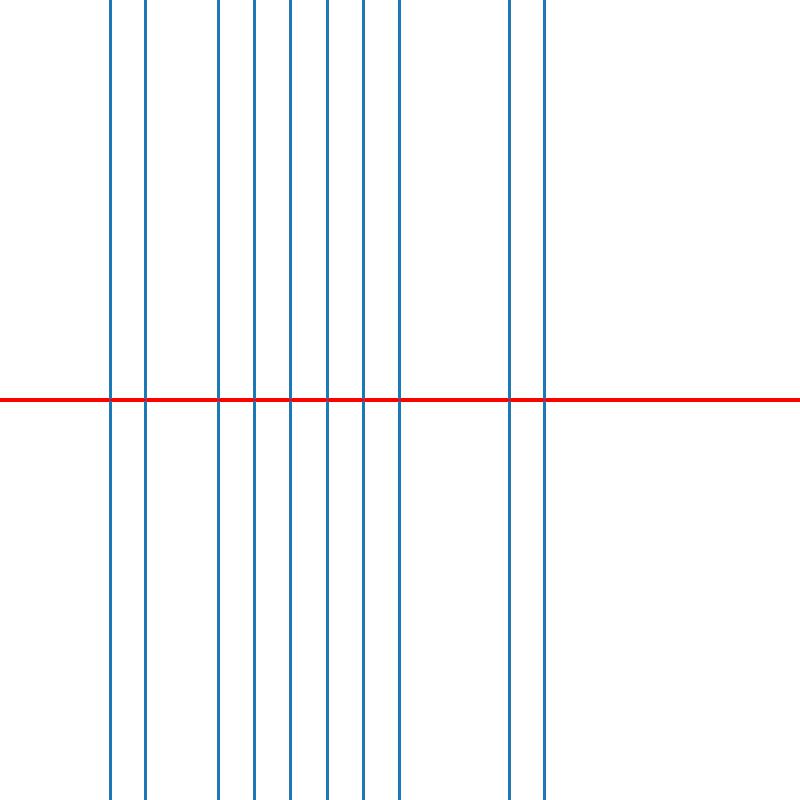root: (541, 396, 549, 404), (250, 396, 258, 404), (141, 396, 149, 404), (105, 396, 112, 404), (323, 396, 330, 404), (505, 396, 512, 404), (287, 396, 294, 404), (360, 396, 367, 404), (396, 396, 403, 404), (214, 396, 221, 404)
